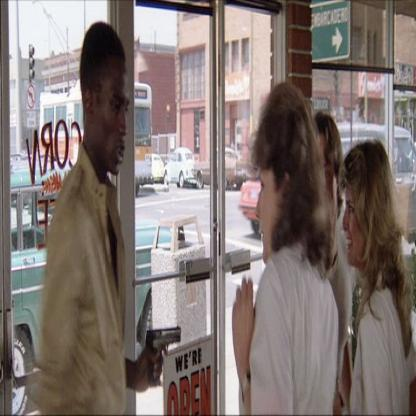gun: (149, 319, 191, 379)
